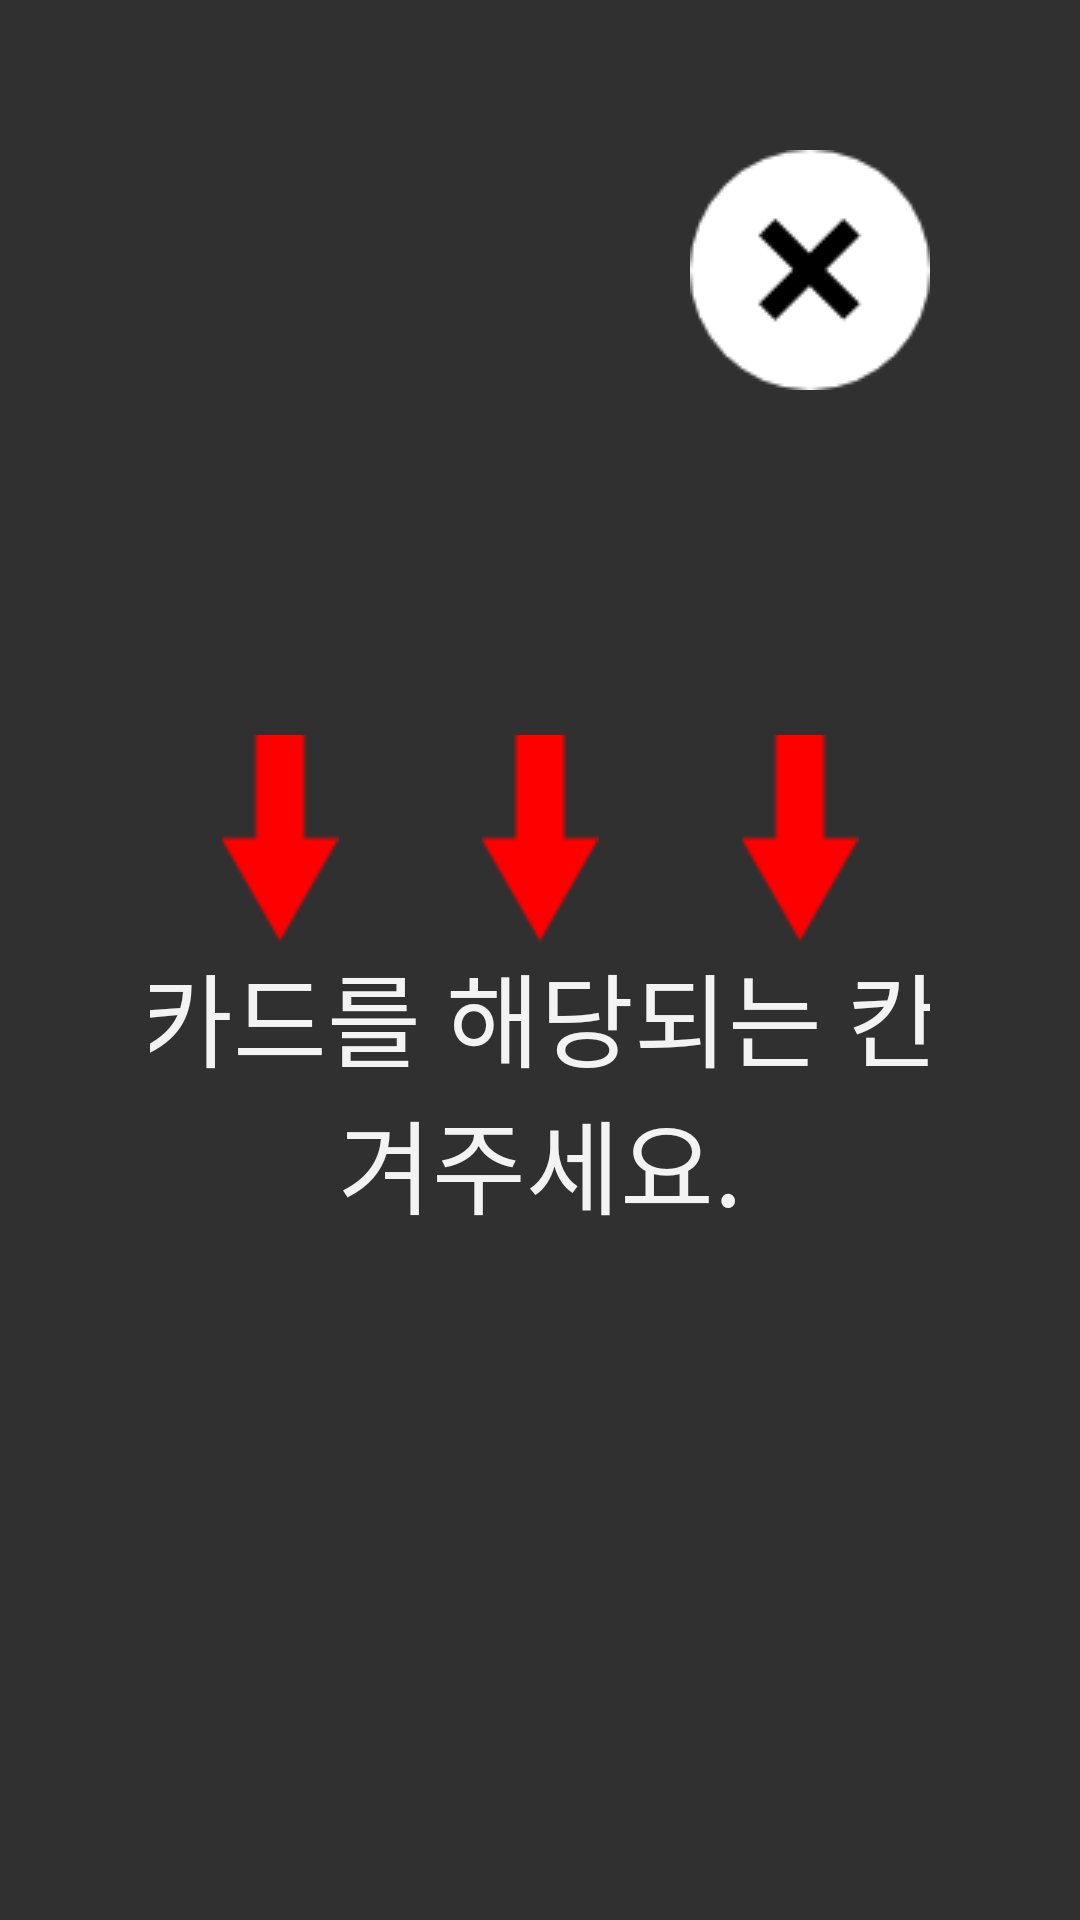

Icons on this 1080*1920 Android screen, each with its box as (x1, y1, x2, y2):
moral dialog cl: (690, 150, 930, 390)
